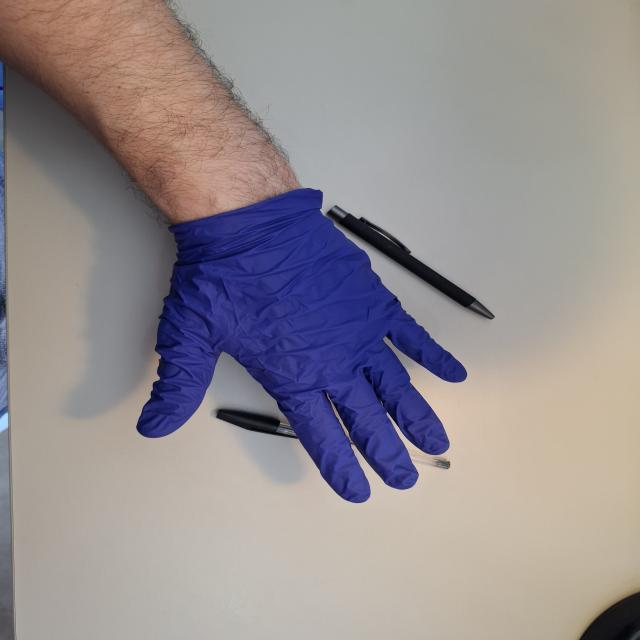glove_on: (134, 195, 470, 505)
